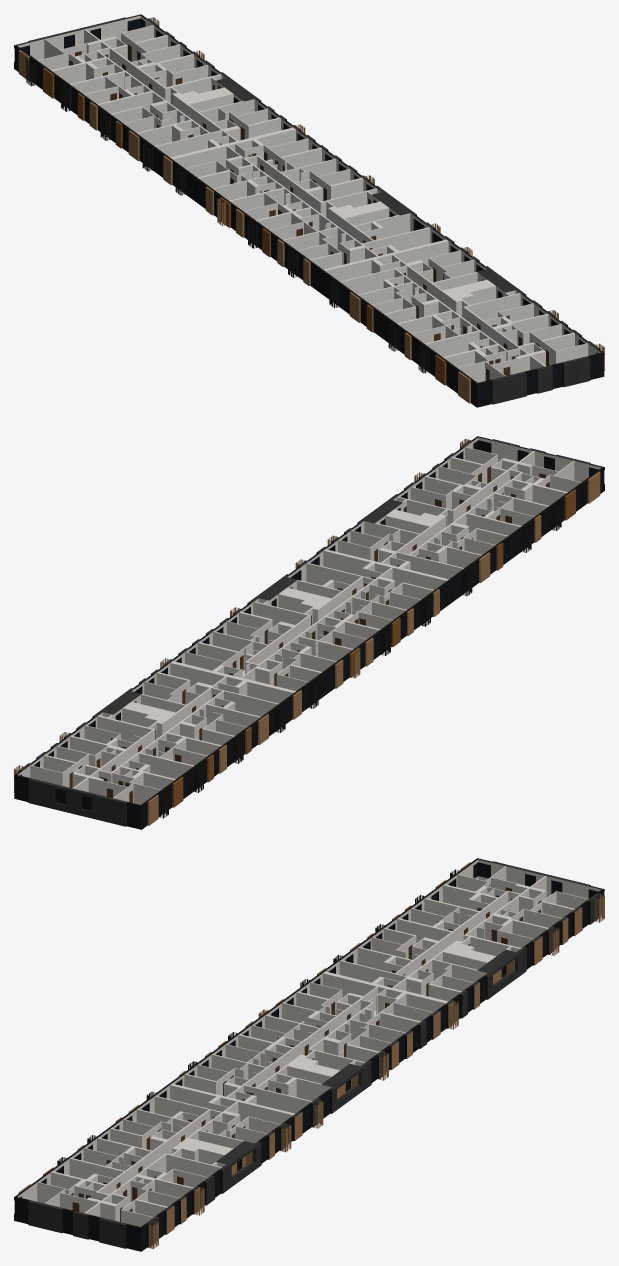
File: floor_24.FBX
The picture shows the model from 3 angles, top to bottom: view 1: azimuth 30°, elevation 25°; view 2: azimuth 150°, elevation 25°; view 3: azimuth 330°, elevation 25°; orthographic projection.
Parts seen in each view (by area): view 1: floor_24; view 2: floor_24; view 3: floor_24.
Part boxes in pixels (bbox=[...]): floor_24: bbox=[14, 14, 604, 407]; floor_24: bbox=[14, 436, 604, 829]; floor_24: bbox=[14, 858, 604, 1251].
Bounding box in the file's own units: 18.55 × 3 × 108.
